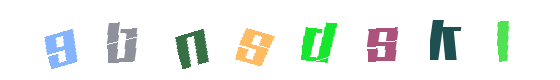5: (241, 0, 321, 80), (284, 0, 364, 80)
9: (31, 0, 111, 80)
B: (113, 0, 193, 80)
D: (278, 0, 358, 80)
K: (342, 0, 422, 80)
L: (443, 0, 523, 80)
N: (214, 0, 294, 80)
